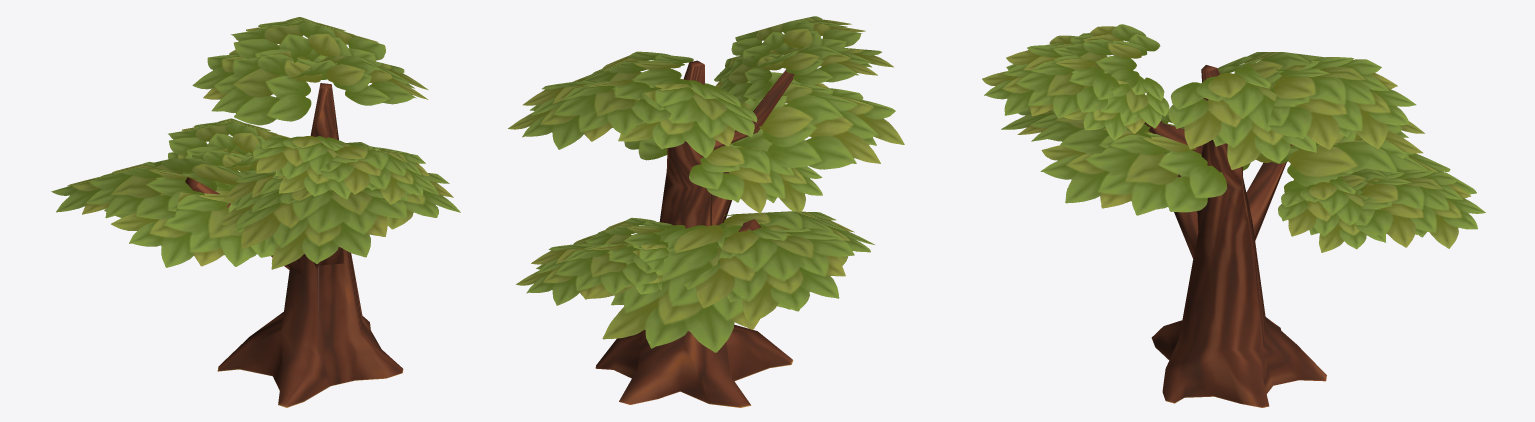
The model's file is oak-tree-trunk-005-18.glb.
The picture shows the model from 3 angles, left to right: view 1: azimuth 30°, elevation 25°; view 2: azimuth 150°, elevation 25°; view 3: azimuth 270°, elevation 25°; orthographic projection. The views are drawn at different scales.
Parts seen in each view (by area): view 1: oak_leaves.003_17, oak_Tree_Trunk.005_18; view 2: oak_leaves.003_17, oak_Tree_Trunk.005_18; view 3: oak_leaves.003_17, oak_Tree_Trunk.005_18.
Part boxes in pixels (x1,y1,x2,y2): oak_leaves.003_17: [51, 17, 460, 269]; oak_Tree_Trunk.005_18: [185, 83, 403, 407]; oak_leaves.003_17: [508, 16, 904, 352]; oak_Tree_Trunk.005_18: [595, 60, 794, 407]; oak_leaves.003_17: [982, 24, 1485, 252]; oak_Tree_Trunk.005_18: [1144, 65, 1326, 407].
Bounding box in the file's own units: 27.44 × 22.22 × 36.33.
2 materials, 2 textured.
